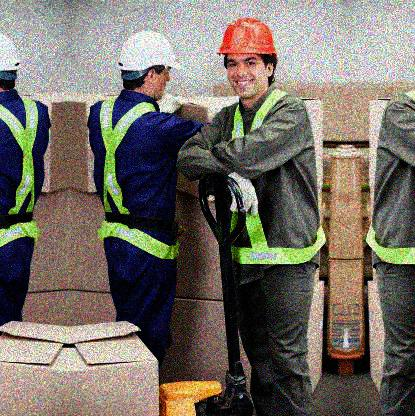helmet: (115, 32, 188, 103), (215, 18, 276, 99), (1, 31, 23, 91)
